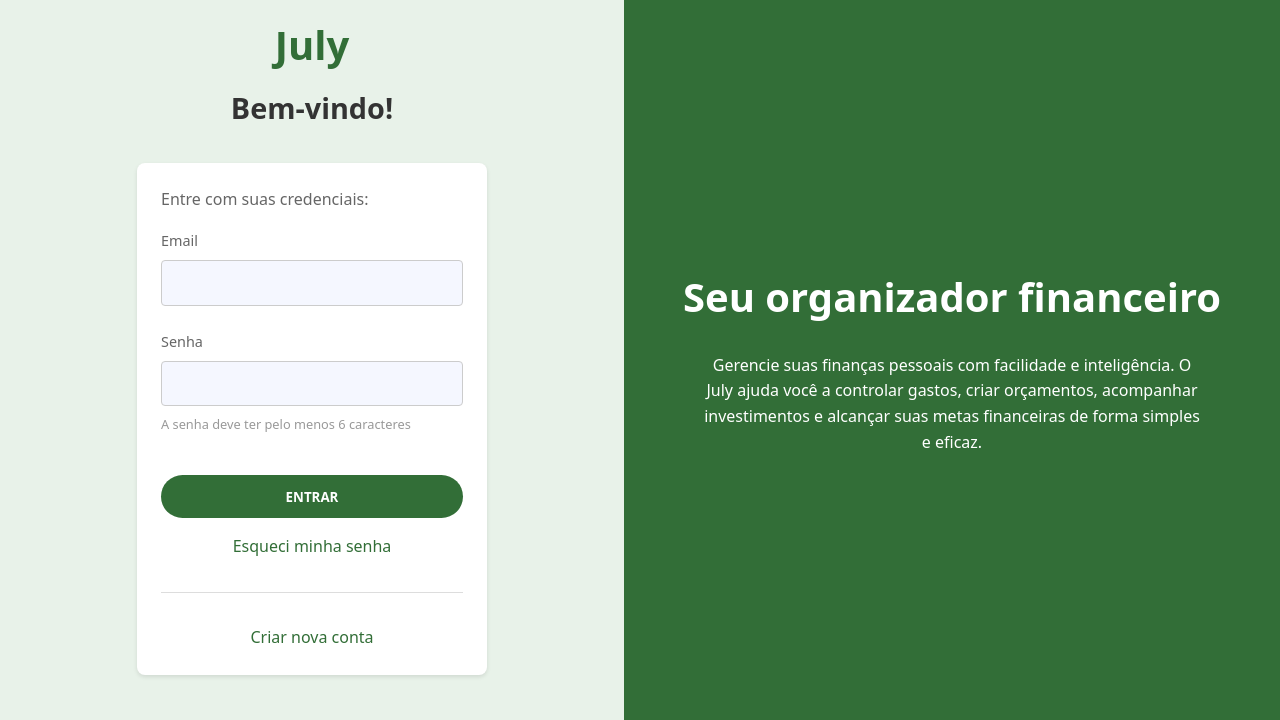
Test case: Componente Login › deve alternar entre login e cadastro
The width and height of the screenshot is (1280, 720).
Expected: the button "Entrar" is shown, [161,475,463,518]
Clicar no link para criar conta
Step 1. Click the link "Criar nova conta" → (312, 637), box [250,626,374,648]
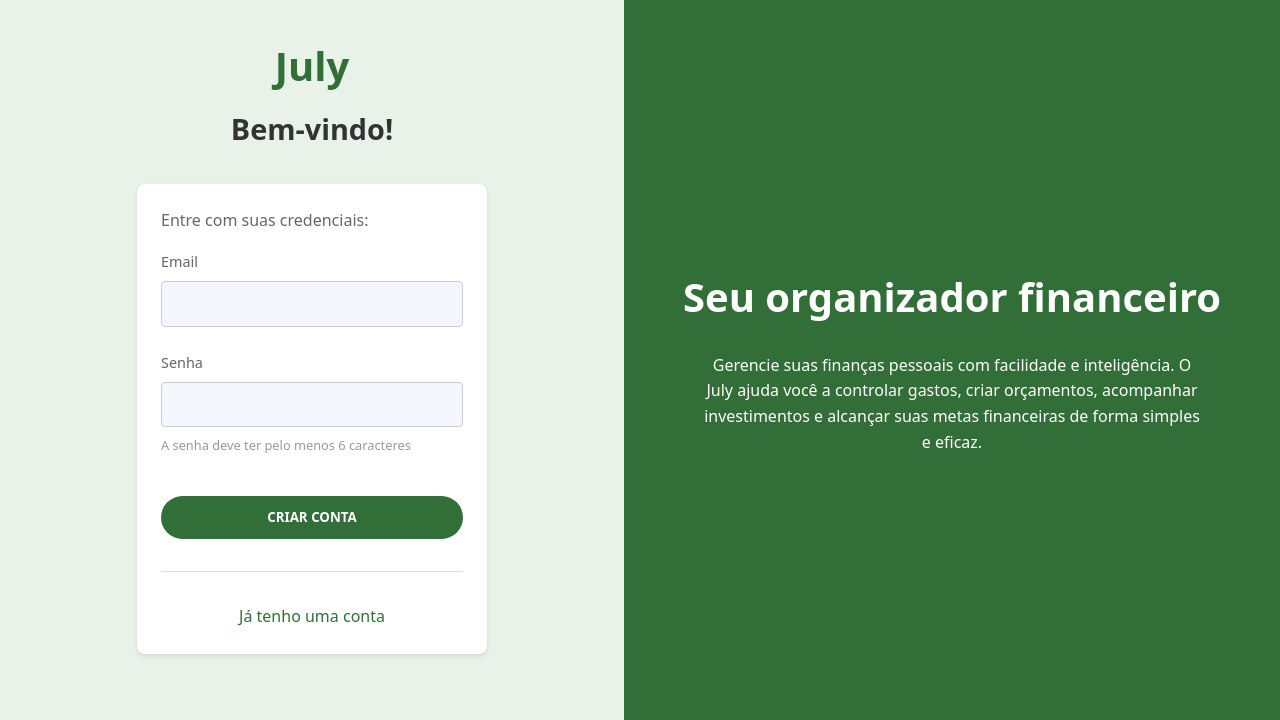
Expected: the button "Criar Conta" is shown, [161,496,463,539]
Voltar para o modo de login
Step 2. Click the link "Já tenho uma conta" → (312, 616), box [239,605,385,627]
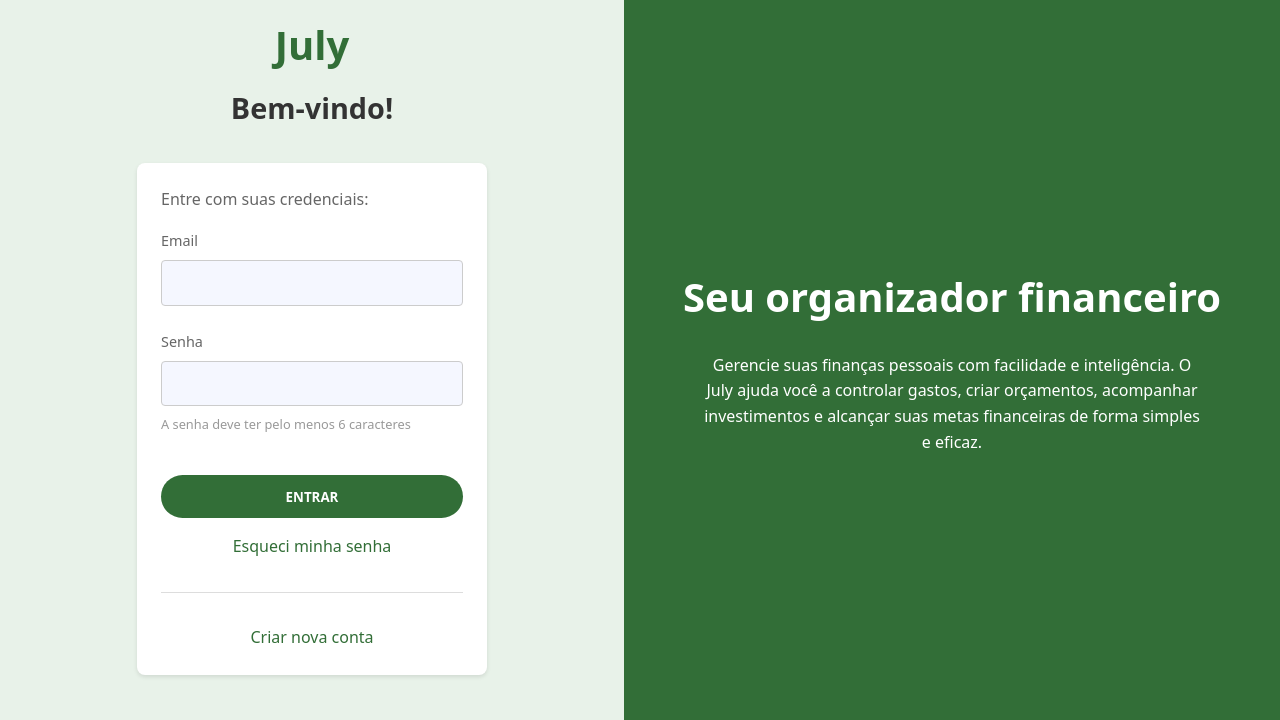
Expected: the button "Entrar" is shown, [161,475,463,518]
